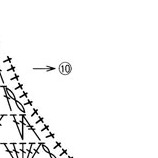enseble_chain: (0, 47, 40, 115), (0, 83, 29, 117), (8, 112, 30, 143), (32, 61, 58, 77), (23, 141, 45, 158), (38, 141, 59, 158), (6, 141, 21, 158), (59, 61, 71, 76), (17, 143, 26, 158)
